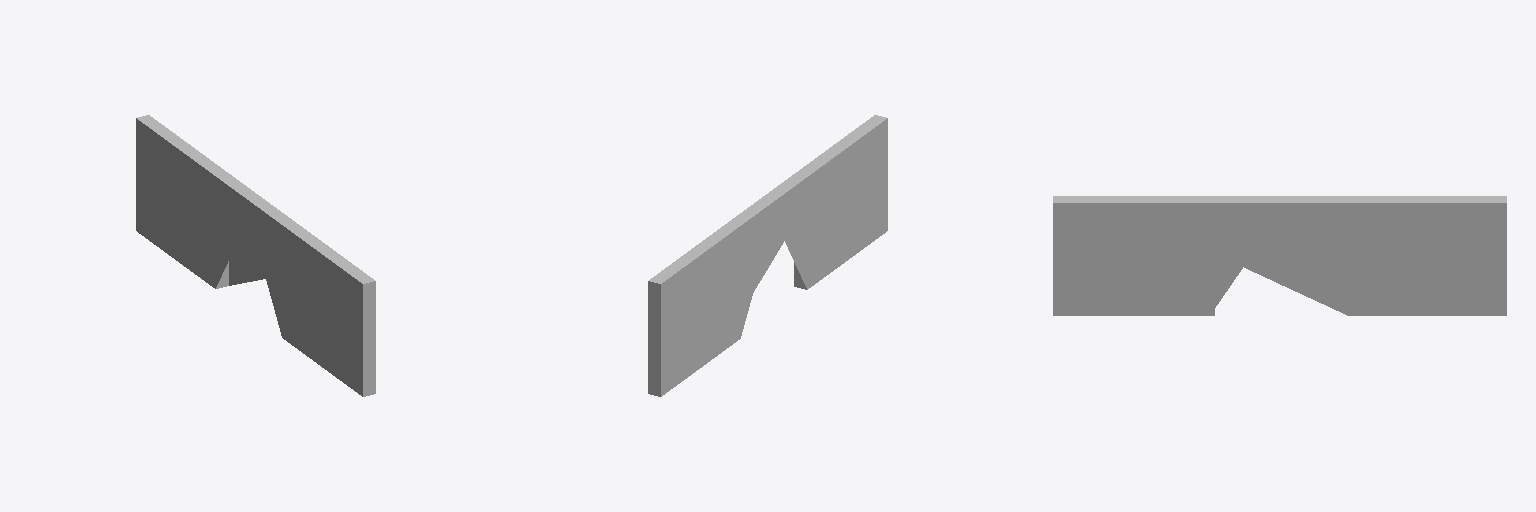
Rendered from CastleDoors.obj.
The picture shows the model from 3 angles: view 1: azimuth 30°, elevation 25°; view 2: azimuth 150°, elevation 25°; view 3: azimuth 270°, elevation 25°; orthographic projection.
Visible parts, largest first — view 1: Boole_1; view 2: Boole_1; view 3: Boole_1.
Part boxes in pixels (x1,y1,x2,y2): Boole_1: (136, 115, 375, 396); Boole_1: (648, 115, 887, 396); Boole_1: (1053, 196, 1506, 315).
Bounding box in the file's own units: 17.27 × 143 × 520.